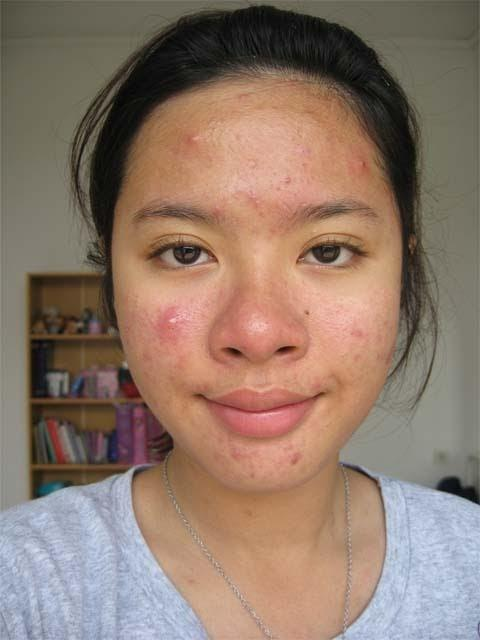Acne: (117, 287, 195, 381), (199, 430, 315, 490), (229, 170, 300, 226), (345, 316, 394, 379), (182, 116, 217, 163), (346, 145, 376, 185)
